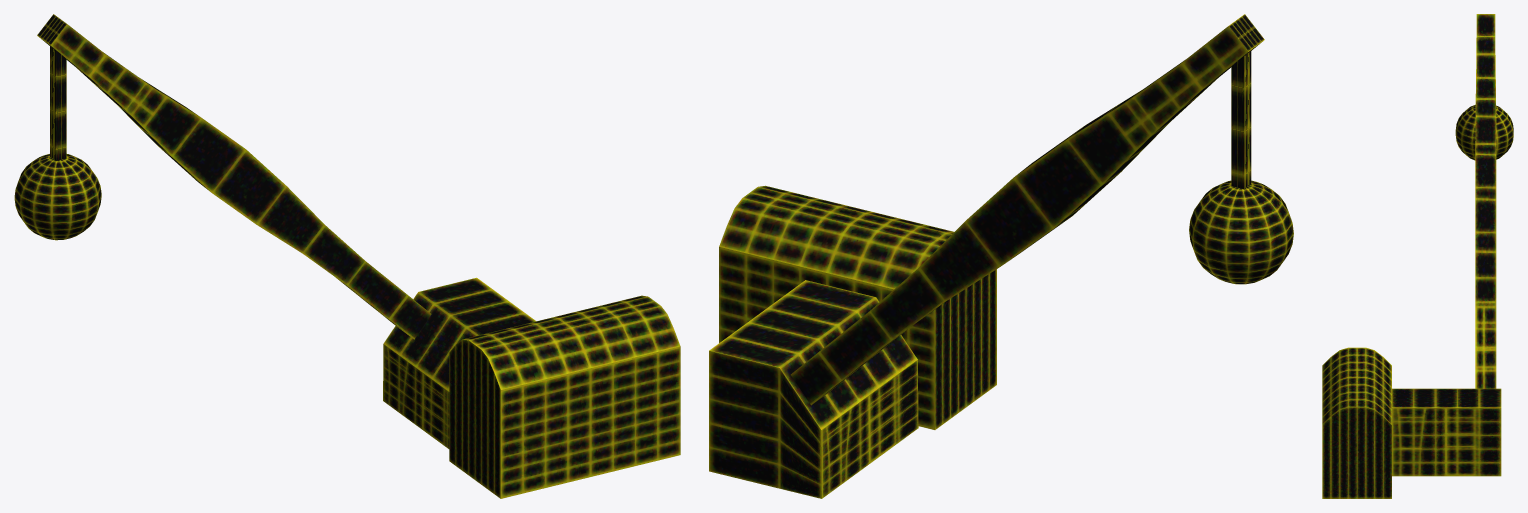
File: ConstructionYard_Yellow.fbx
3 renders of one model, left to right at view 1: azimuth 30°, elevation 25°; view 2: azimuth 150°, elevation 25°; view 3: azimuth 270°, elevation 25°, orthographic. The views are drawn at different scales.
Visible parts, largest first — view 1: ConstructionYard_Yellow; view 2: ConstructionYard_Yellow; view 3: ConstructionYard_Yellow.
Part boxes in pixels (x1,y1,x2,y2): ConstructionYard_Yellow: [14, 14, 680, 498]; ConstructionYard_Yellow: [709, 14, 1293, 498]; ConstructionYard_Yellow: [1322, 14, 1513, 498].
Bounding box in the file's own units: 46.11 × 38.44 × 20.82.
